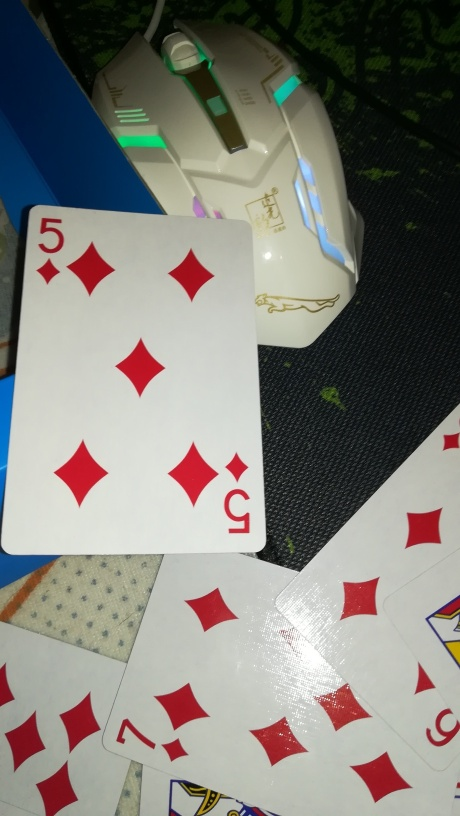fk 5: (1, 202, 267, 559)
